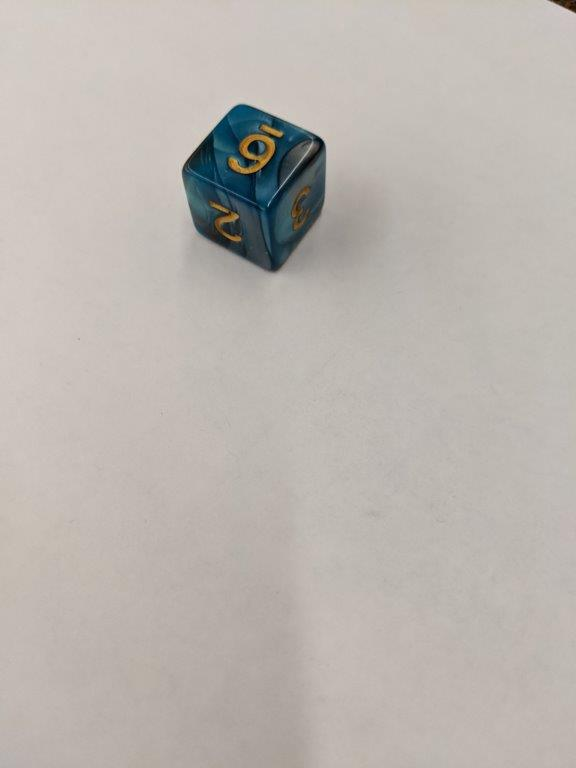d6-6: (180, 99, 328, 271)
